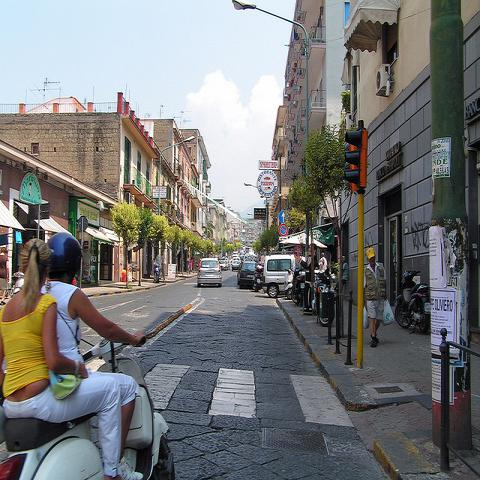car: (198, 258, 222, 288), (236, 260, 257, 288), (231, 260, 240, 271), (220, 260, 228, 270), (232, 254, 238, 258)
motorcycle: (0, 339, 176, 479), (395, 271, 430, 334), (312, 277, 336, 326), (286, 266, 310, 304), (253, 270, 262, 292), (154, 261, 162, 283)
truck: (262, 251, 294, 298)
